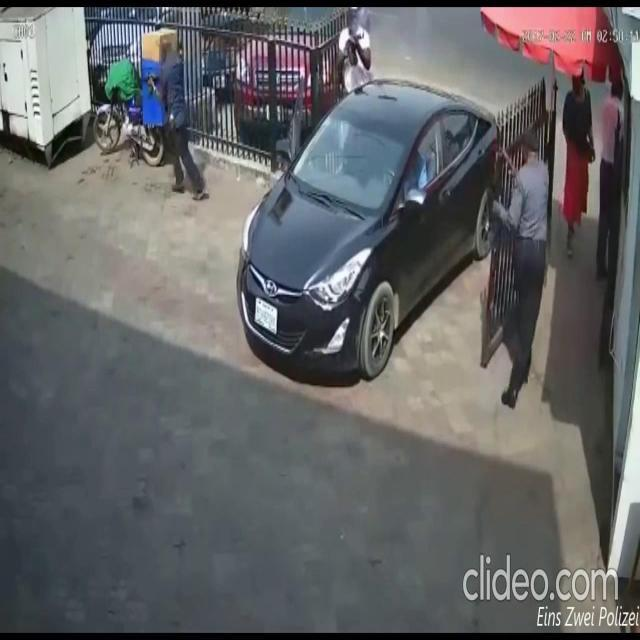pistol: (344, 28, 366, 70), (135, 73, 163, 96)
